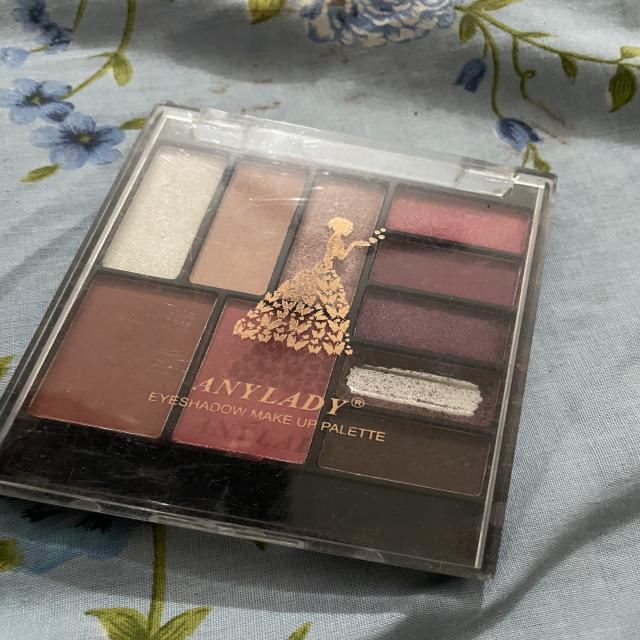eye shade: (0, 414, 294, 511), (31, 288, 212, 424), (284, 460, 487, 562), (159, 158, 318, 288), (94, 143, 235, 280), (276, 178, 398, 301), (360, 224, 521, 307), (333, 399, 488, 485), (358, 286, 511, 363), (390, 180, 532, 250)
